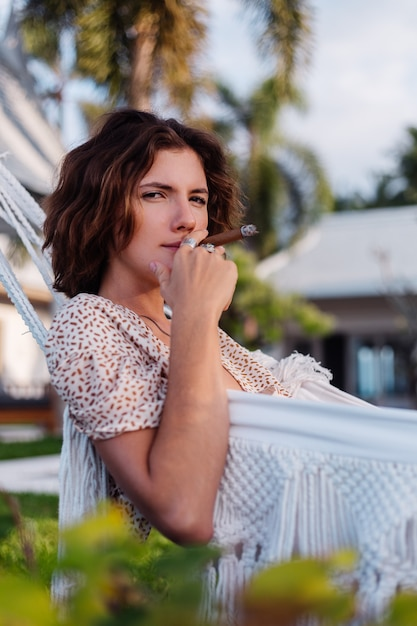cigarette: (198, 221, 257, 247)
